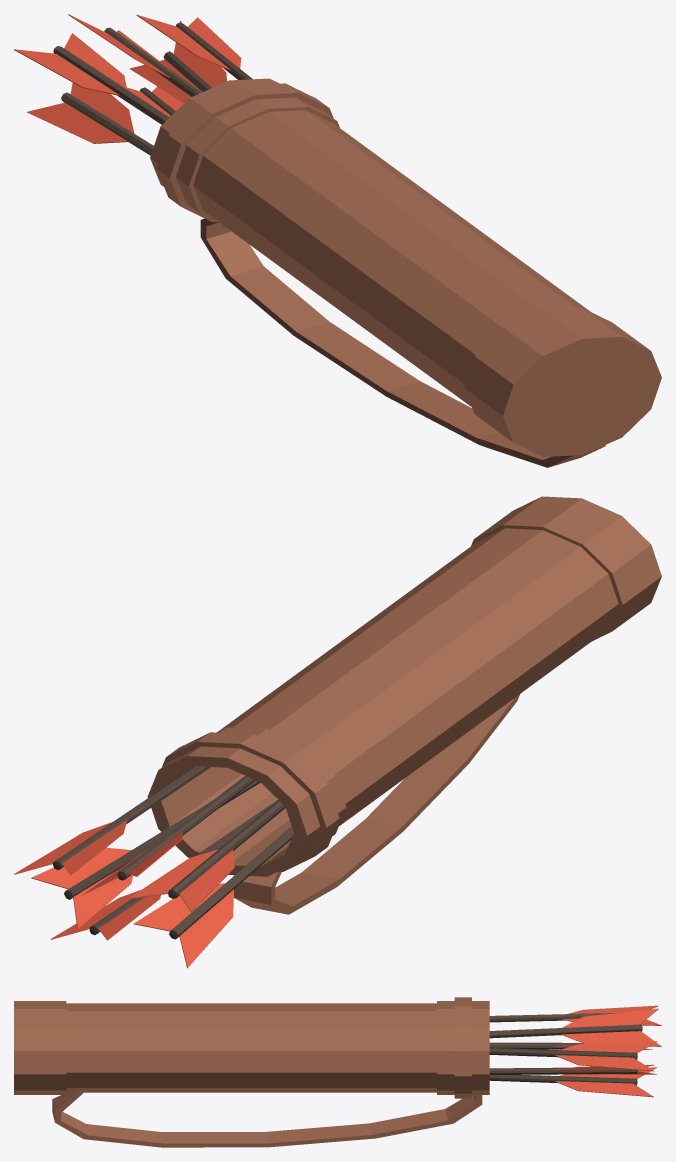
File: scene_DXcB2CSCLt.glb
3 views of the same model, one above another, from view 1: azimuth 30°, elevation 25°; view 2: azimuth 150°, elevation 25°; view 3: azimuth 270°, elevation 25° (orthographic). The views are drawn at different scales.
Visible parts, largest first — view 1: Quiver; view 2: Quiver; view 3: Quiver.
Boxes of the visible parts, left/top/right/bottom form: Quiver: left=14, top=14, right=661, bottom=467; Quiver: left=14, top=496, right=661, bottom=968; Quiver: left=14, top=997, right=661, bottom=1147.
Bounding box in the file's own units: 0.3344 × 0.35 × 1.55.
1 material, 1 textured.
